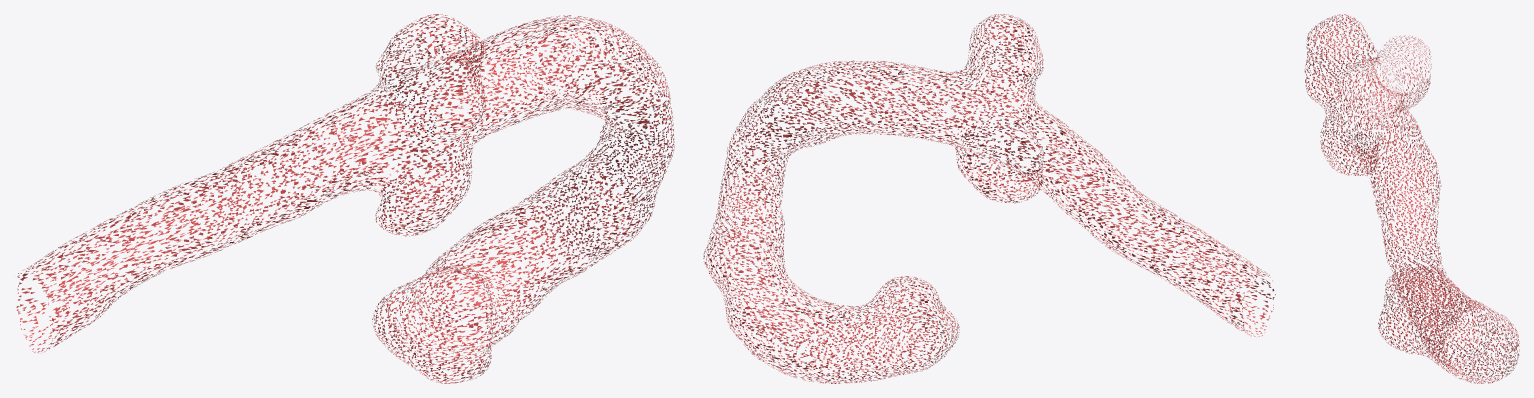
Rendered from aorta.glb.
3 renders of one model, left to right at view 1: azimuth 30°, elevation 25°; view 2: azimuth 150°, elevation 25°; view 3: azimuth 270°, elevation 25°, orthographic. The views are drawn at different scales.
Size of the model in its own units: 241 by 149 by 93.1.
